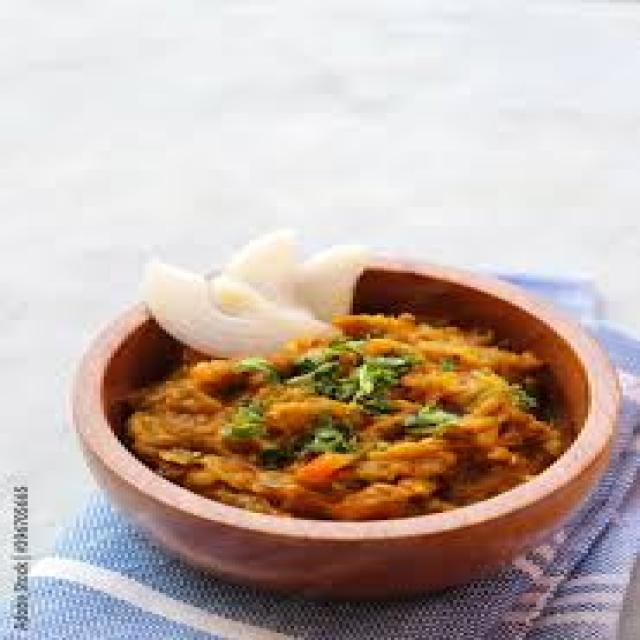POHA: (114, 311, 554, 515)
